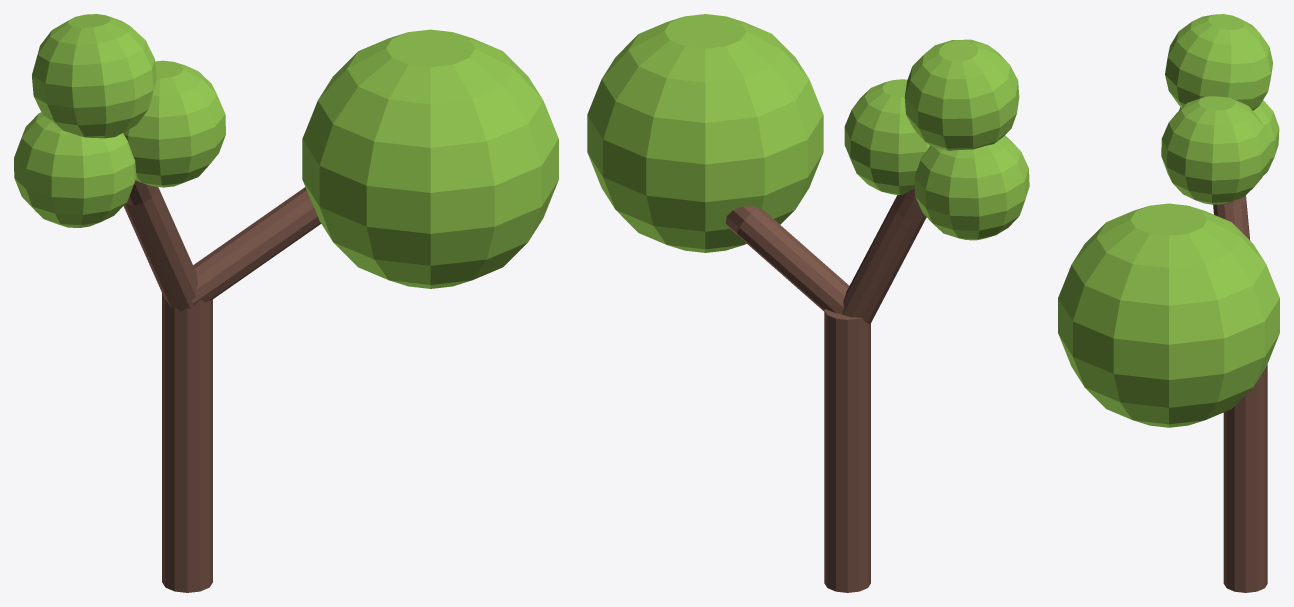
Rendered from tree2.obj.
3 renders of one model, left to right at view 1: azimuth 30°, elevation 25°; view 2: azimuth 150°, elevation 25°; view 3: azimuth 270°, elevation 25°, orthographic. The views are drawn at different scales.
Visible parts, largest first — view 1: tree27, tree26, tree22, tree23, tree21, tree24, tree25; view 2: tree27, tree26, tree22, tree23, tree21, tree24, tree25; view 3: tree27, tree21, tree26, tree22, tree25, tree23.
Part boxes in pixels (bbox=[...]): tree27: bbox=[302, 29, 558, 288]; tree26: bbox=[162, 293, 212, 592]; tree22: bbox=[32, 14, 156, 138]; tree23: bbox=[14, 112, 136, 227]; tree21: bbox=[123, 60, 225, 187]; tree24: bbox=[191, 187, 321, 305]; tree25: bbox=[123, 180, 197, 311]; tree27: bbox=[587, 14, 823, 252]; tree26: bbox=[824, 309, 870, 592]; tree22: bbox=[904, 39, 1019, 150]; tree23: bbox=[914, 135, 1029, 240]; tree21: bbox=[844, 79, 930, 194]; tree24: bbox=[725, 206, 849, 314]; tree25: bbox=[842, 188, 926, 324]; tree27: bbox=[1058, 203, 1279, 427]; tree21: bbox=[1161, 96, 1269, 204]; tree26: bbox=[1223, 364, 1267, 592]; tree22: bbox=[1165, 14, 1273, 110]; tree25: bbox=[1213, 195, 1250, 240]; tree23: bbox=[1179, 100, 1279, 175].
Bounding box in the file's own units: 1.94 × 2.29 × 0.8863.
